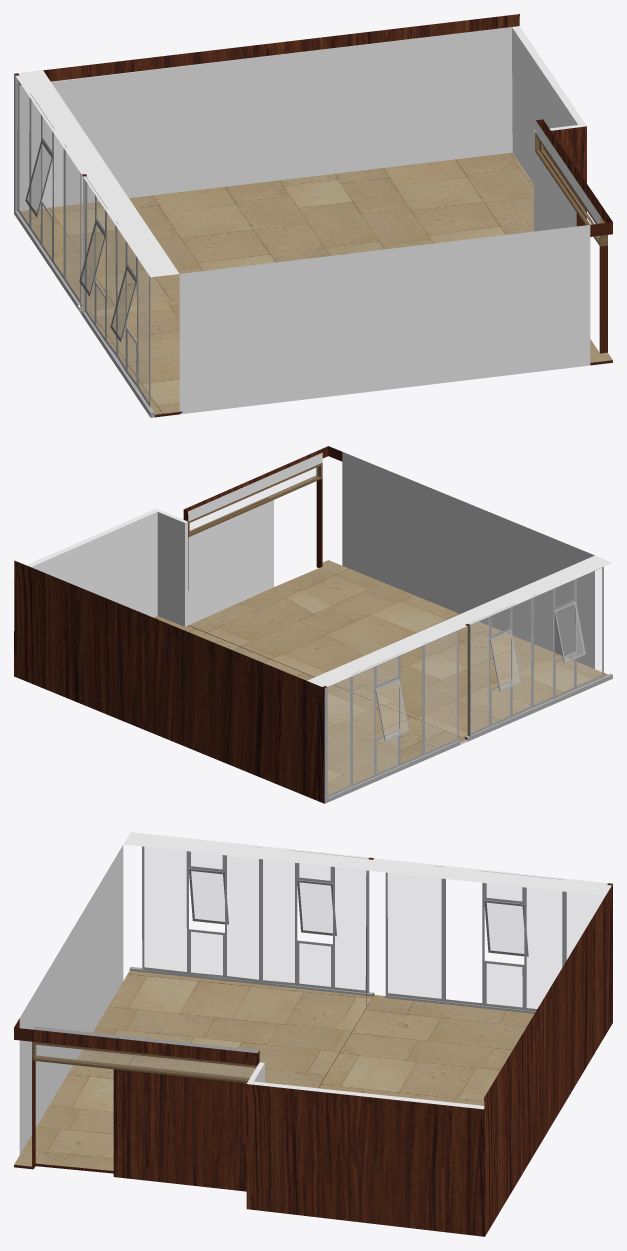
File: aula_a1.glb
3 views of the same model, one above another, from view 1: azimuth 30°, elevation 25°; view 2: azimuth 150°, elevation 25°; view 3: azimuth 270°, elevation 25° (orthographic). The views are drawn at different scales.
Visible parts, largest first — view 1: aula_ultima_2, aula_ultima; view 2: aula_ultima, aula_ultima_2; view 3: aula_ultima, aula_ultima_2.
Part boxes in pixels (x1,y1,x2,y2): aula_ultima_2: [14, 14, 586, 314]; aula_ultima: [79, 119, 612, 417]; aula_ultima: [183, 446, 612, 741]; aula_ultima_2: [14, 508, 467, 803]; aula_ultima: [14, 832, 374, 1191]; aula_ultima_2: [246, 858, 612, 1236].
Bounding box in the file's own units: 71.41 × 17.55 × 68.18.
Materials: 6 (3 with a texture image).
